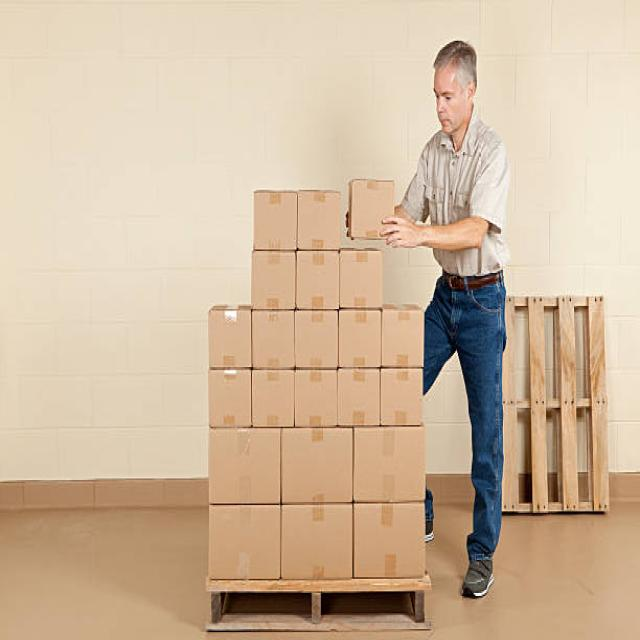Wooden-Pallets: (503, 292, 603, 530), (208, 580, 430, 640)
